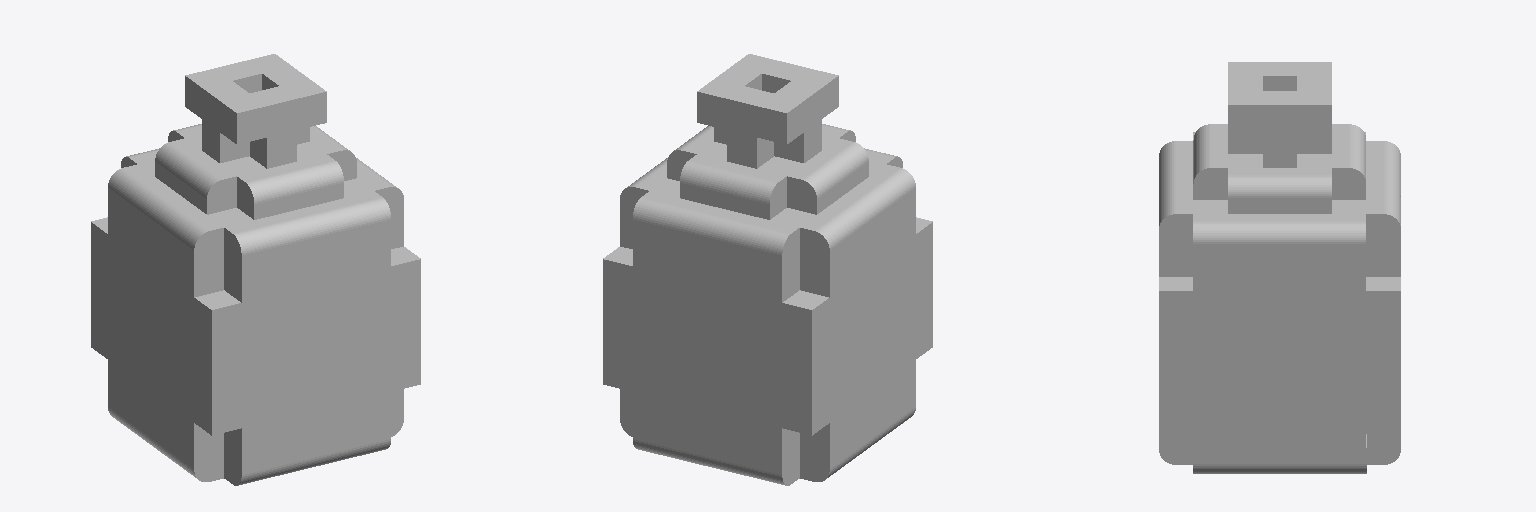
File: Pot1.obj
3 renders of one model, left to right at view 1: azimuth 30°, elevation 25°; view 2: azimuth 150°, elevation 25°; view 3: azimuth 270°, elevation 25°, orthographic.
Visible parts, largest first — view 1: mergedBlocks; view 2: mergedBlocks; view 3: mergedBlocks.
Part boxes in pixels (left/top/right/bottom): mergedBlocks: left=91, top=54, right=420, bottom=485; mergedBlocks: left=603, top=54, right=932, bottom=485; mergedBlocks: left=1159, top=62, right=1400, bottom=473.
Bounding box in the file's own units: 0.5018 × 0.7885 × 0.5018.